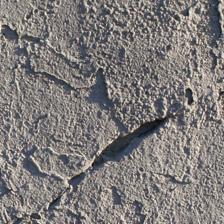Crack: (27, 113, 172, 221)
